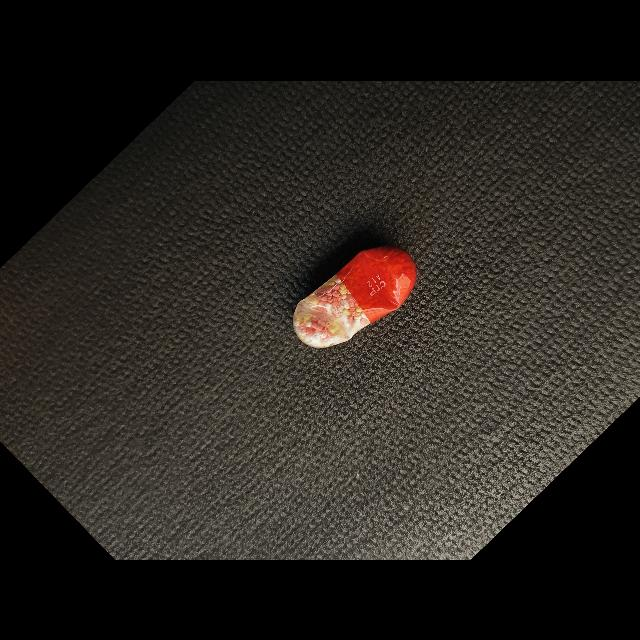Defective Capsule: (293, 246, 417, 348)
